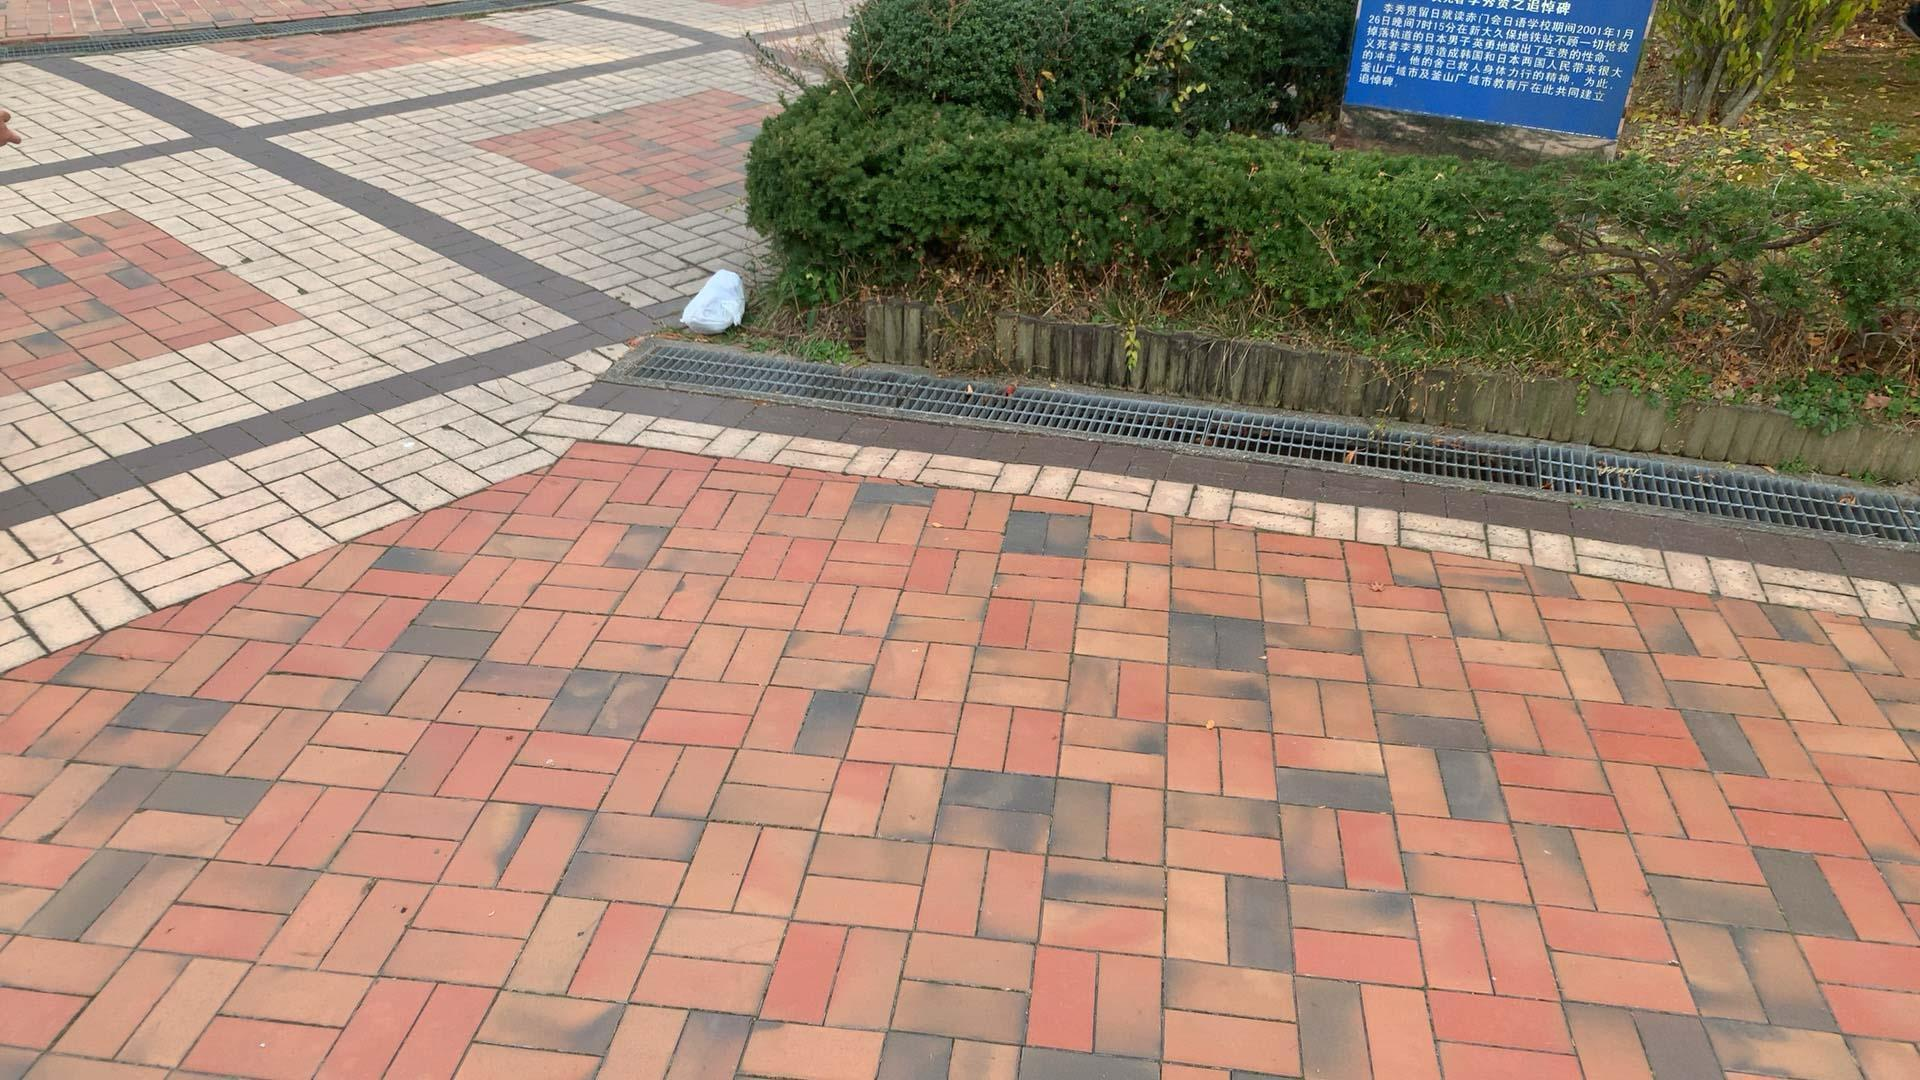white_bag: (674, 266, 749, 334)
